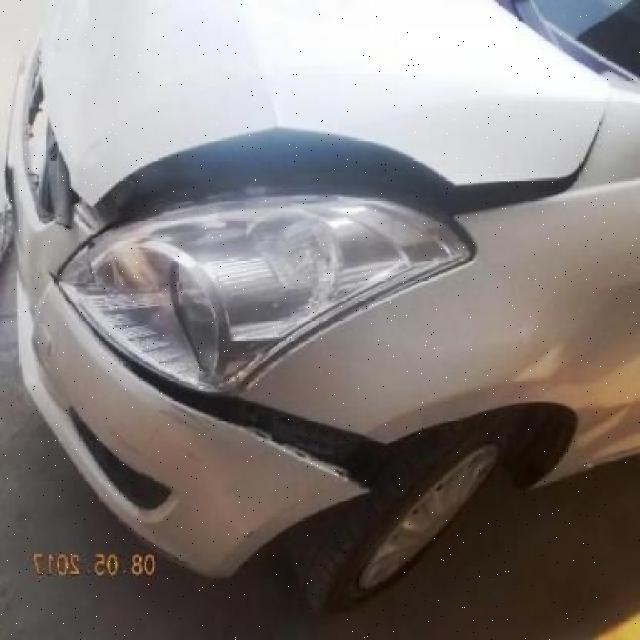damage: (42, 267, 391, 507), (95, 116, 601, 228), (7, 27, 81, 235), (229, 4, 285, 127)
